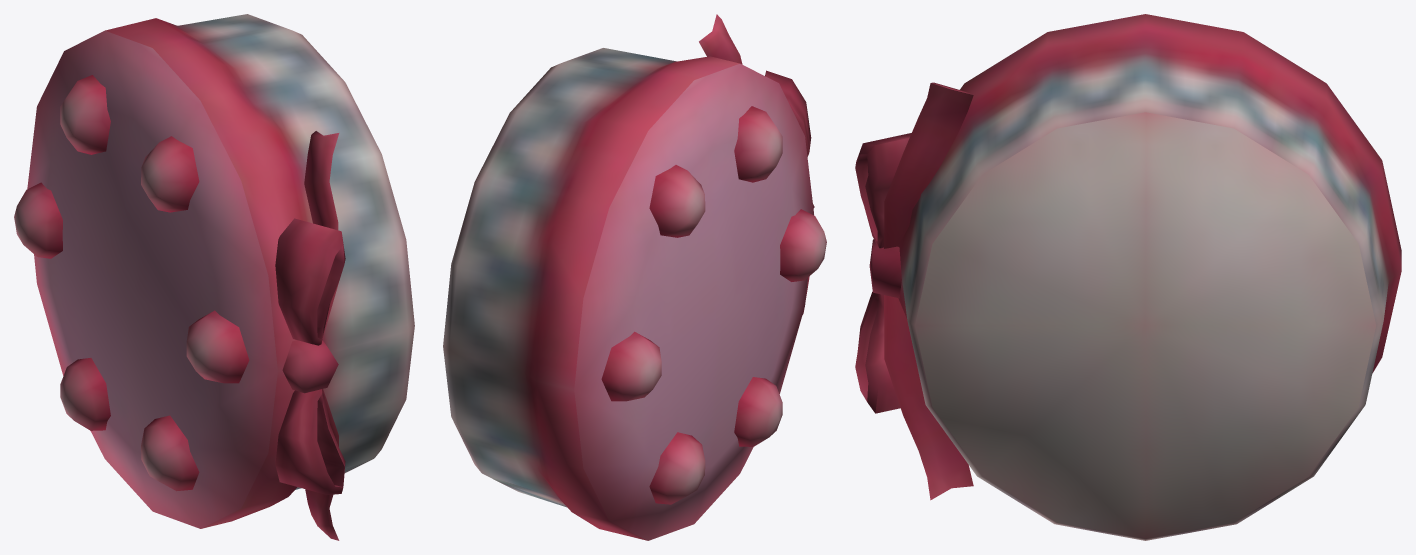
Rendered from bdShield.glb.
3 views of the same model, side by side, from view 1: azimuth 30°, elevation 25°; view 2: azimuth 150°, elevation 25°; view 3: azimuth 270°, elevation 25° (orthographic). The views are drawn at different scales.
Parts seen in each view (by area): view 1: shield; view 2: shield; view 3: shield.
Part boxes in pixels (left/top/right/bottom): shield: left=14, top=14, right=414, bottom=540; shield: left=443, top=14, right=826, bottom=540; shield: left=855, top=14, right=1401, bottom=540.
Size of the model in its own units: 0.3086 by 0.6963 by 0.7276.
Materials: 1 (1 with a texture image).
